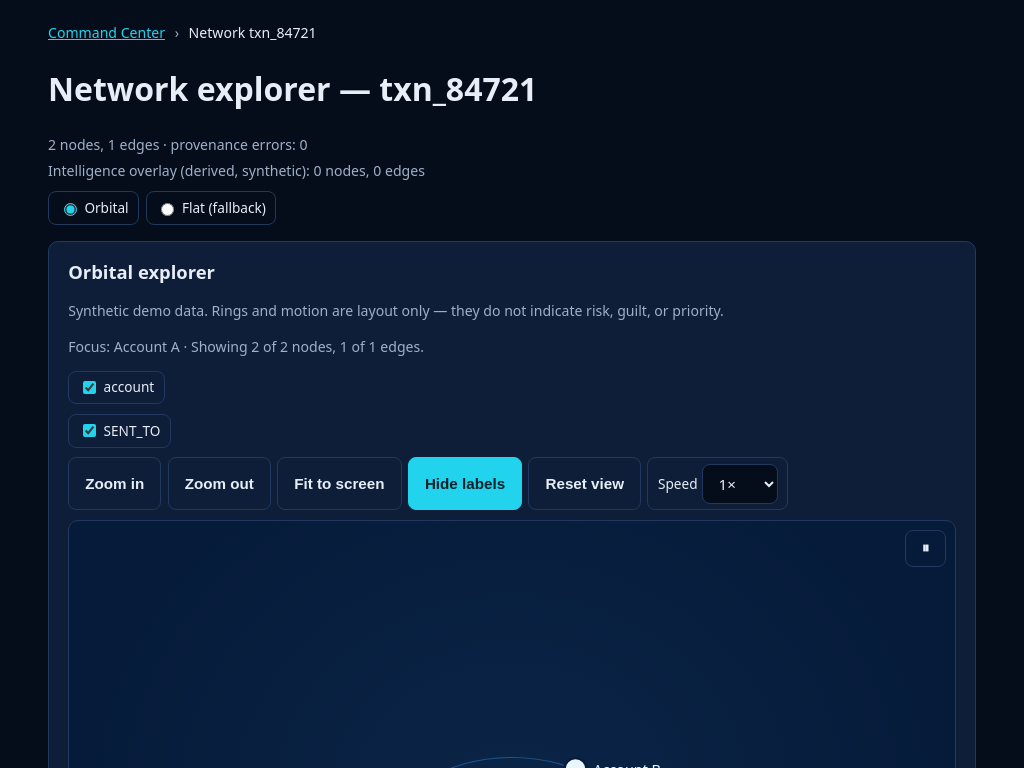
Scenario: NetworkPage › defaults to the orbital view with a working flat fallback
Check: the text with test id "orbital-counts" shows "2 of 2 nodes", box [68,337,424,356]
Click the radio button labelled "Flat (fallback)": [168, 209] box [161,203,174,216]
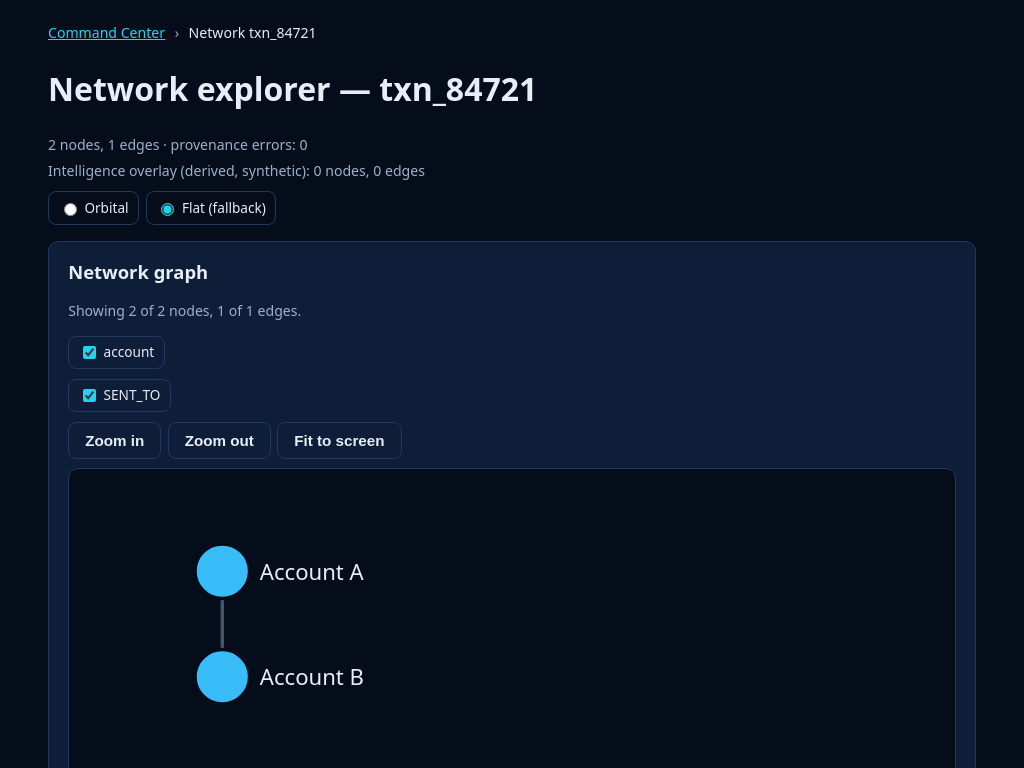
Check: the text with test id "graph-counts" reads "Showing 2 of 2 nodes, 1 of 1 edges.", box [68,301,301,320]
Check: the text with test id "orbital-counts" is gone
Click the radio button labelled "Orbital": [70, 209] box [64,203,77,216]
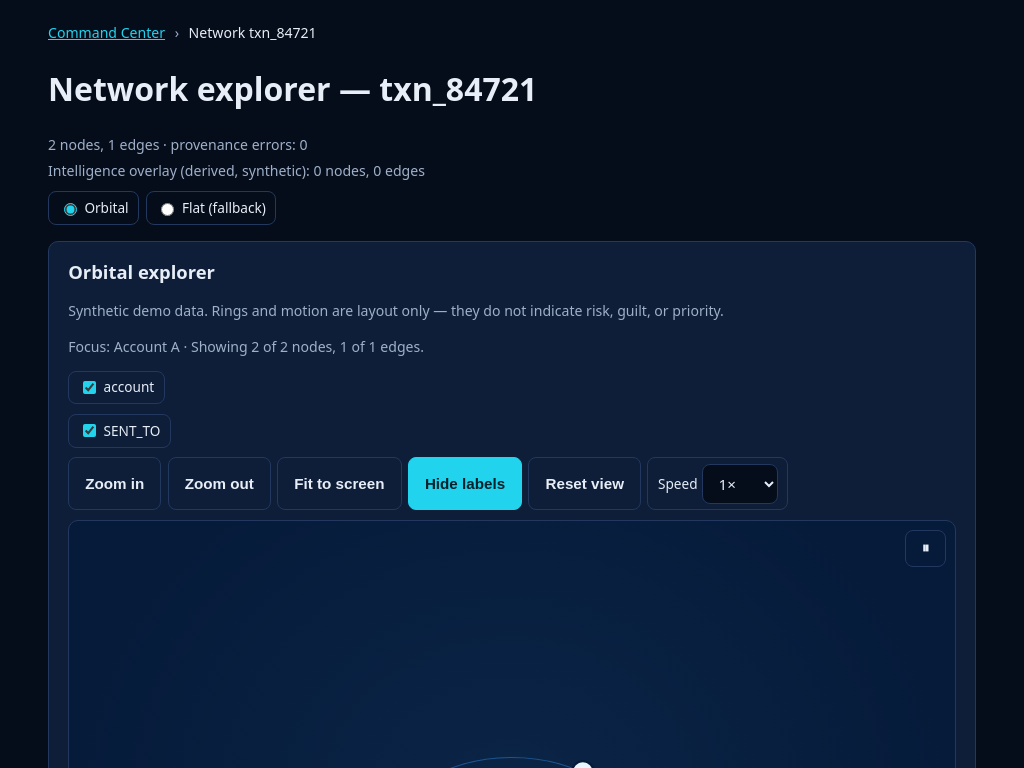
Check: the text "Focus: Account A · Showing 2 of 2 nodes, 1 of 1 edges." is shown, box [68,337,424,356]
